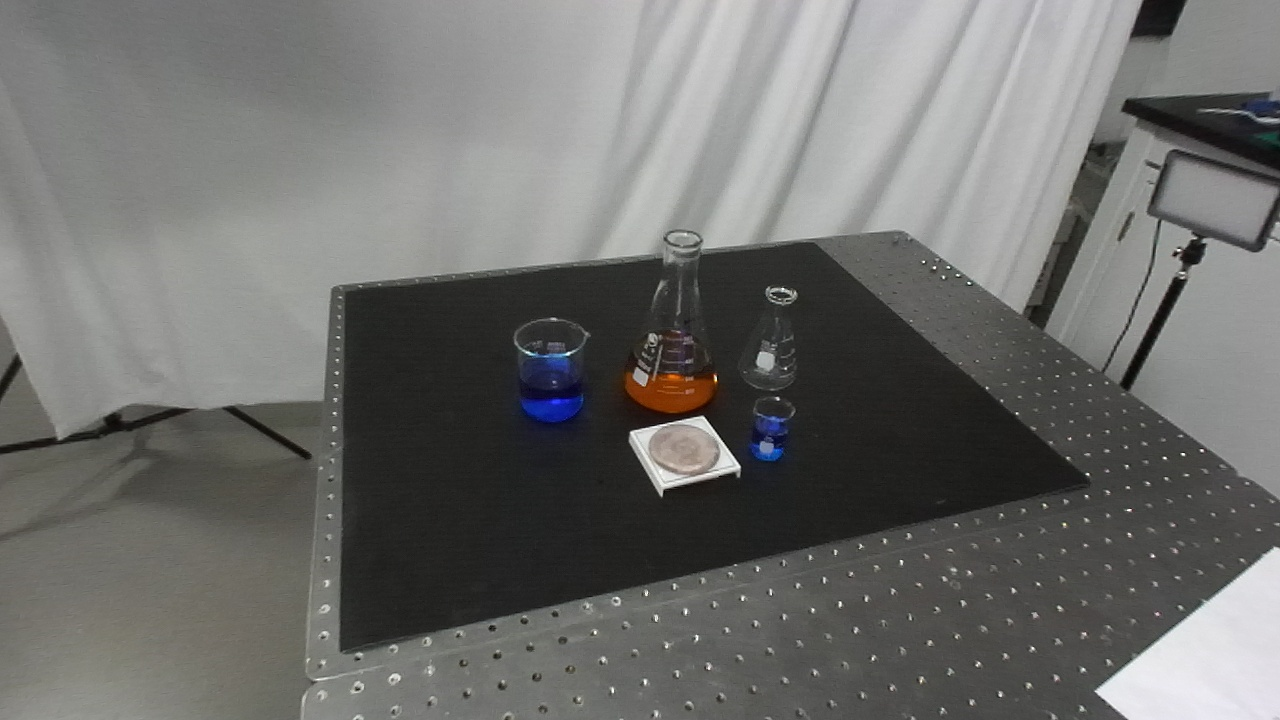glass: (622, 225, 721, 416), (511, 319, 593, 428), (737, 282, 801, 394), (748, 395, 796, 469)
plate: (618, 415, 743, 497)
